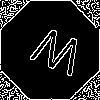W: (25, 25, 87, 86)
